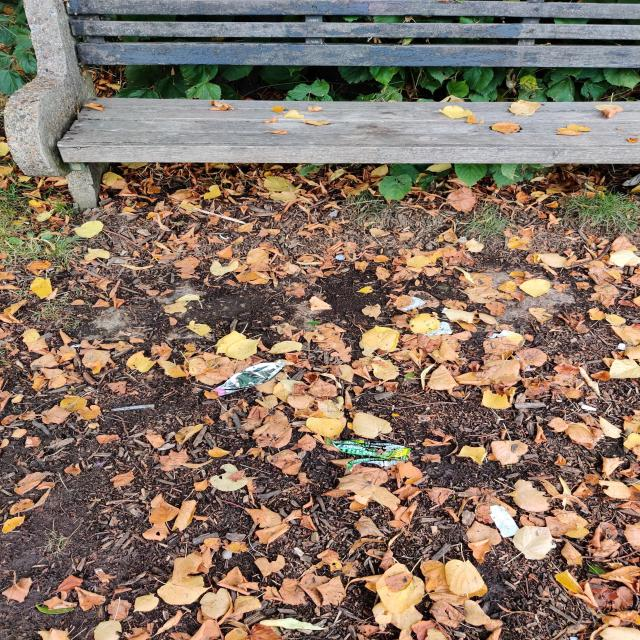litter: (317, 428, 423, 476)
